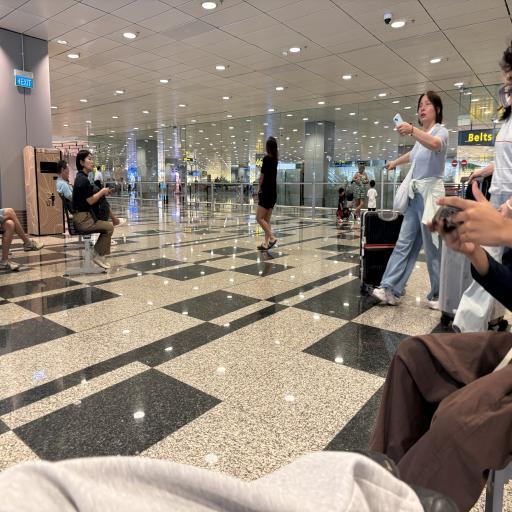person_with_luggage_left: (358, 64, 425, 290)
